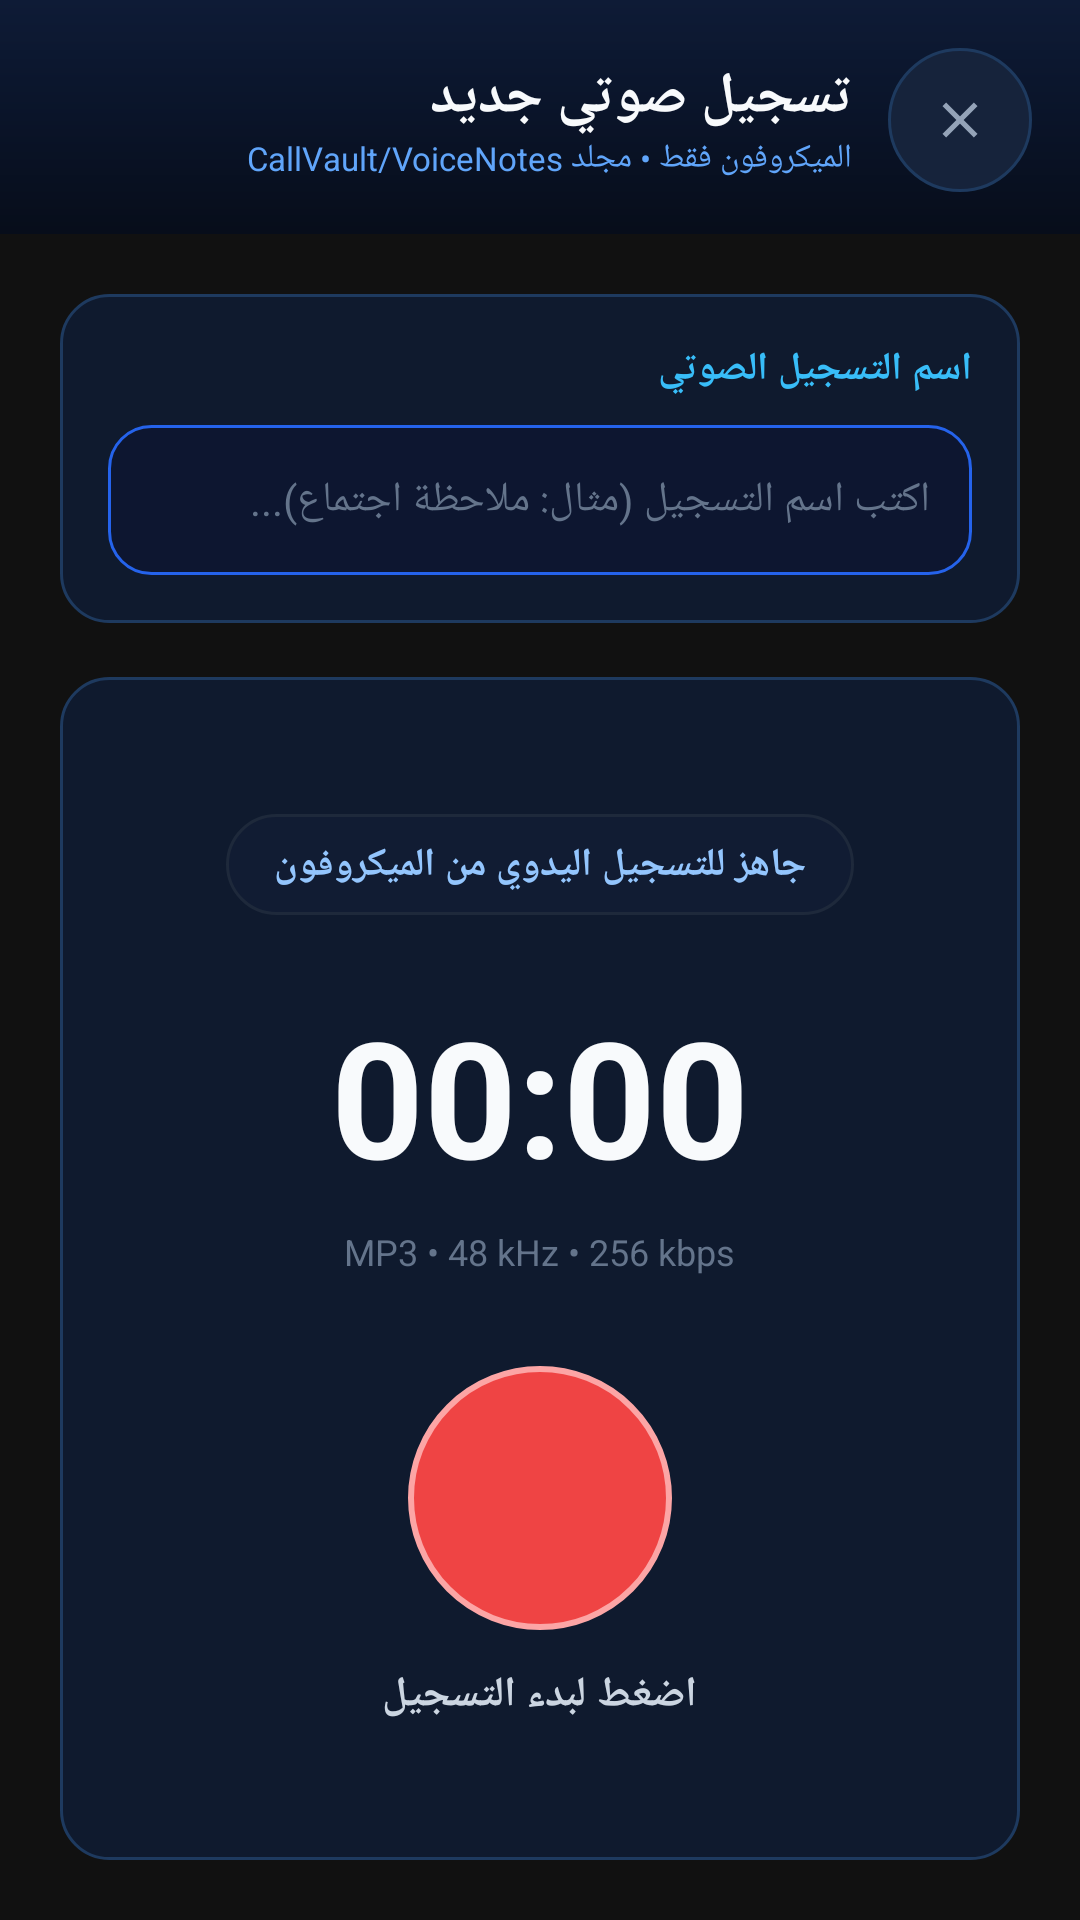

Named icons in this screenshot (1080×1920) and their bounding boxes, (x1, y1, x2, y2):
رجوع: (888, 48, 1032, 192)
